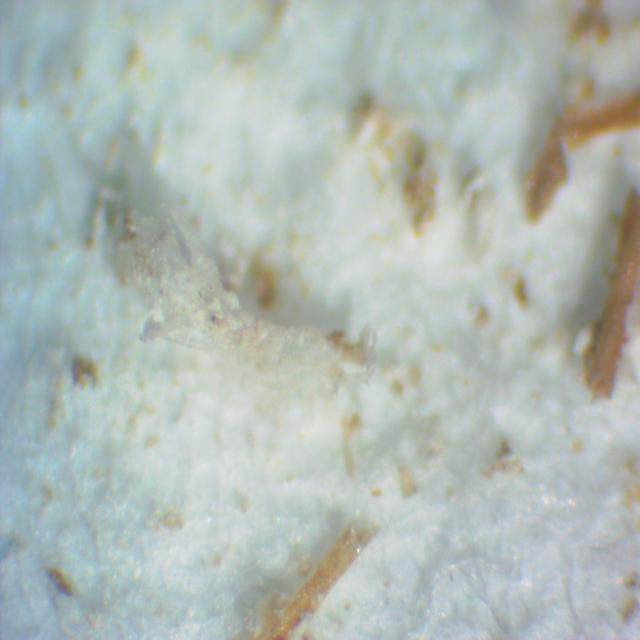microplastic: (116, 216, 342, 392)
